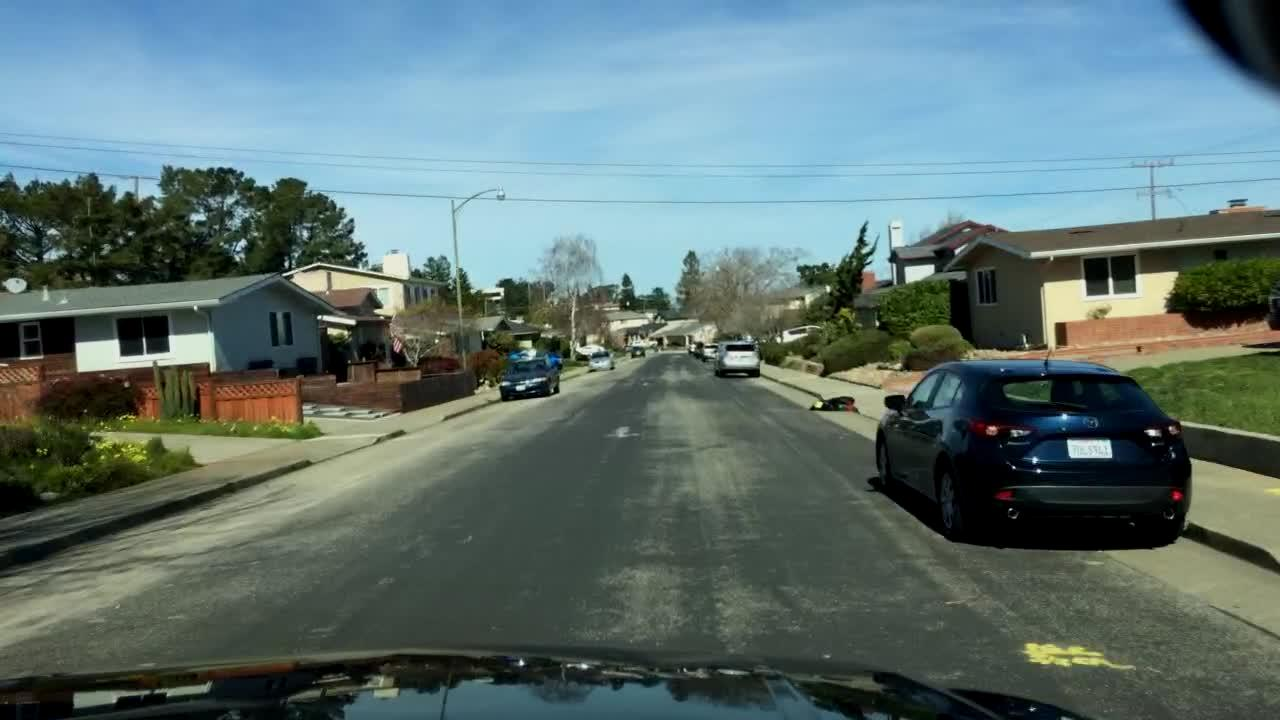Mazda: (1080, 409, 1100, 434)
